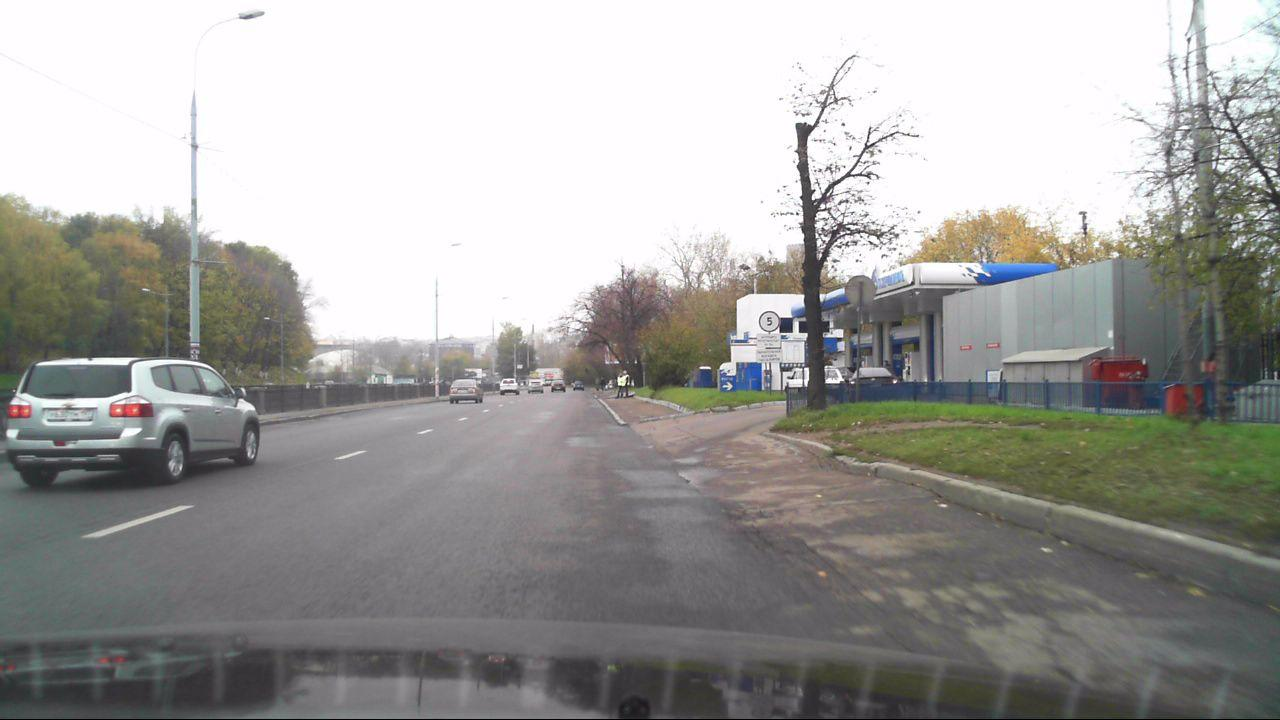road_sign: (758, 311, 780, 332)
